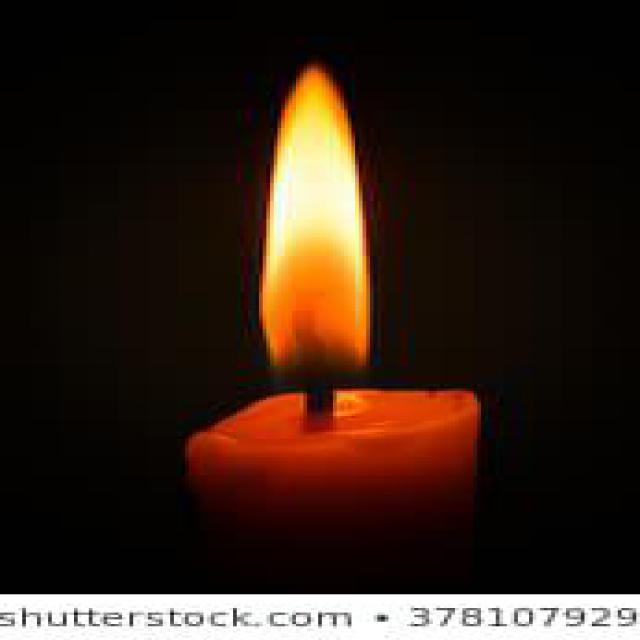Fire: (259, 61, 370, 386)
